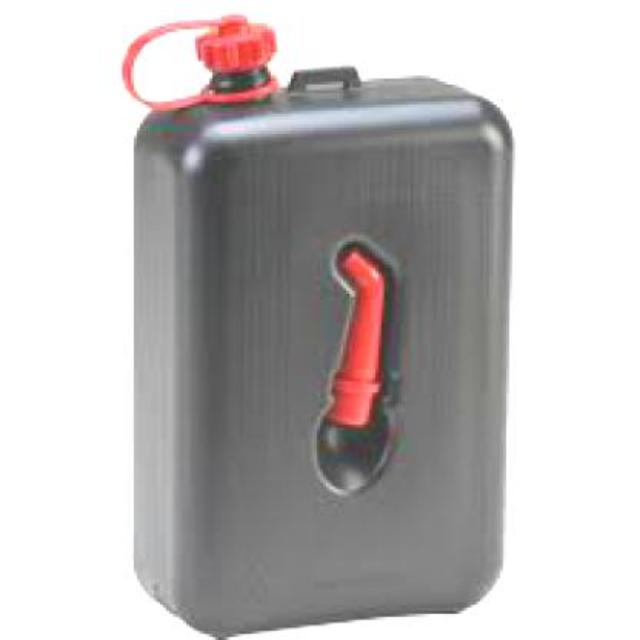chemical_plastic_gallon: (116, 4, 520, 636)
